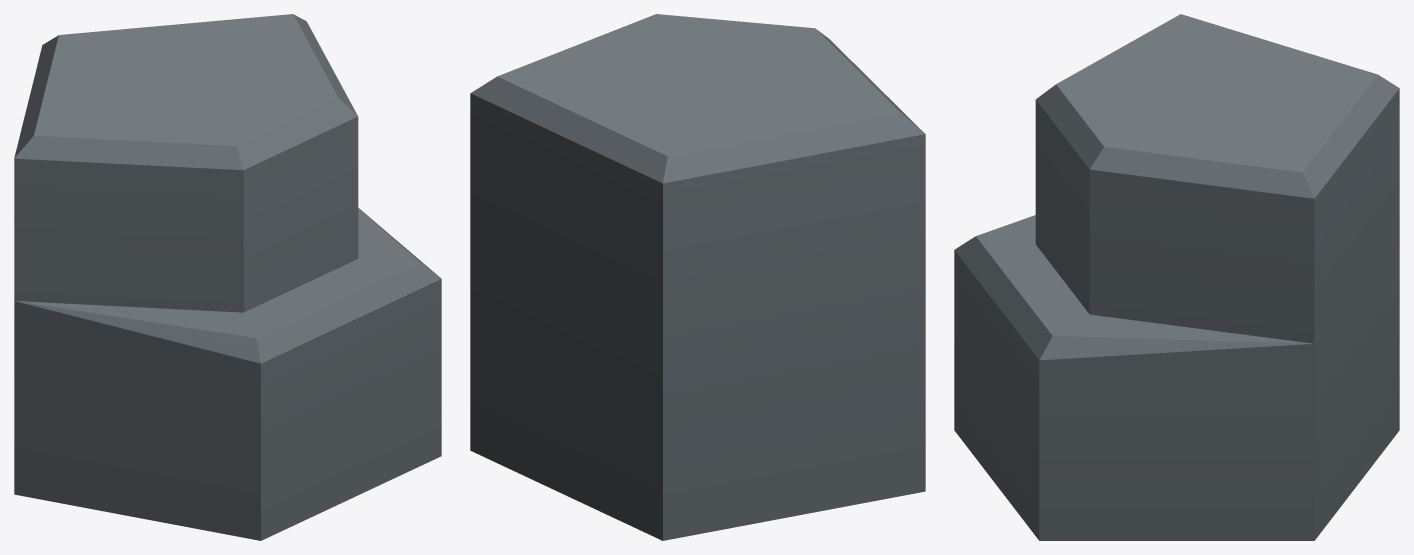
File: kf_rock_1_a.fbx
3 renders of one model, left to right at view 1: azimuth 30°, elevation 25°; view 2: azimuth 150°, elevation 25°; view 3: azimuth 270°, elevation 25°, orthographic. The views are drawn at different scales.
Parts seen in each view (by area): view 1: kf_rock_1_a; view 2: kf_rock_1_a; view 3: kf_rock_1_a.
Part boxes in pixels (x1=…): kf_rock_1_a: x1=14, y1=14, x2=441, y2=540; kf_rock_1_a: x1=470, y1=14, x2=925, y2=540; kf_rock_1_a: x1=954, y1=14, x2=1399, y2=540.
Size of the model in its own units: 1.39 by 1.3 by 1.46.
1 material, 1 textured.
